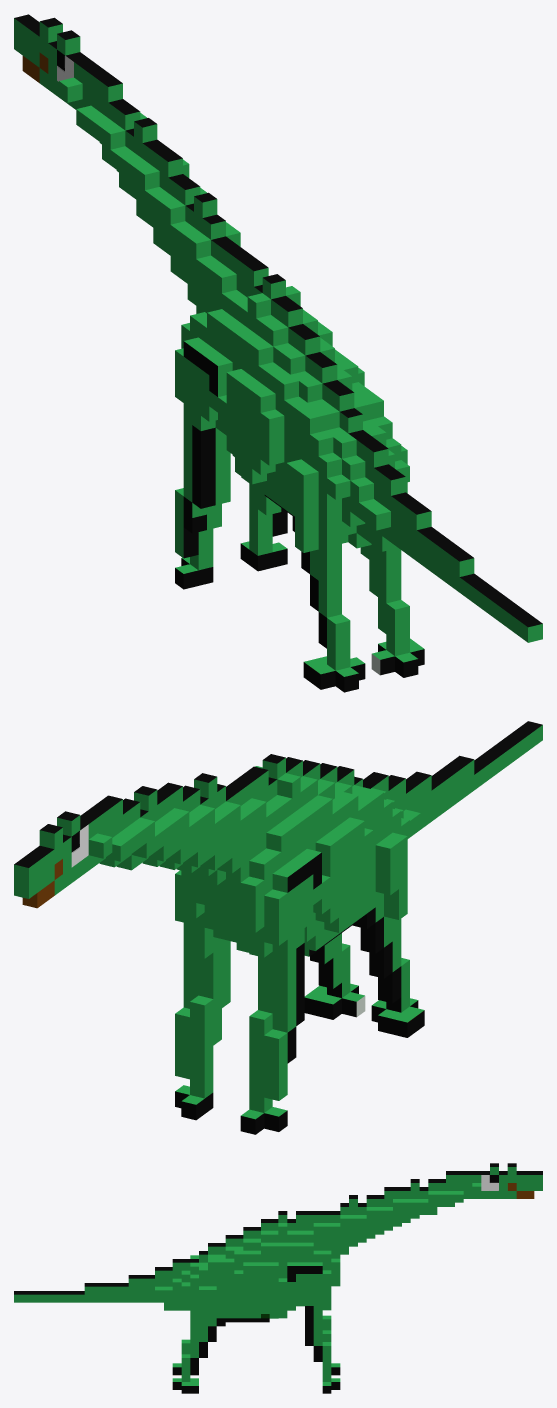
File: cuelloLargoVC.obj
The picture shows the model from 3 angles, top to bottom: view 1: azimuth 30°, elevation 25°; view 2: azimuth 150°, elevation 25°; view 3: azimuth 270°, elevation 25°; orthographic projection. The views are drawn at different scales.
Parts seen in each view (by area): view 1: Brachiosaurus_2; view 2: Brachiosaurus_2; view 3: Brachiosaurus_2.
Part boxes in pixels (left/top/right/bottom): Brachiosaurus_2: left=14, top=14, right=542, bottom=692; Brachiosaurus_2: left=14, top=721, right=542, bottom=1134; Brachiosaurus_2: left=14, top=1163, right=542, bottom=1393.
Bounding box in the file's own units: 4.63 × 17.87 × 39.72.
